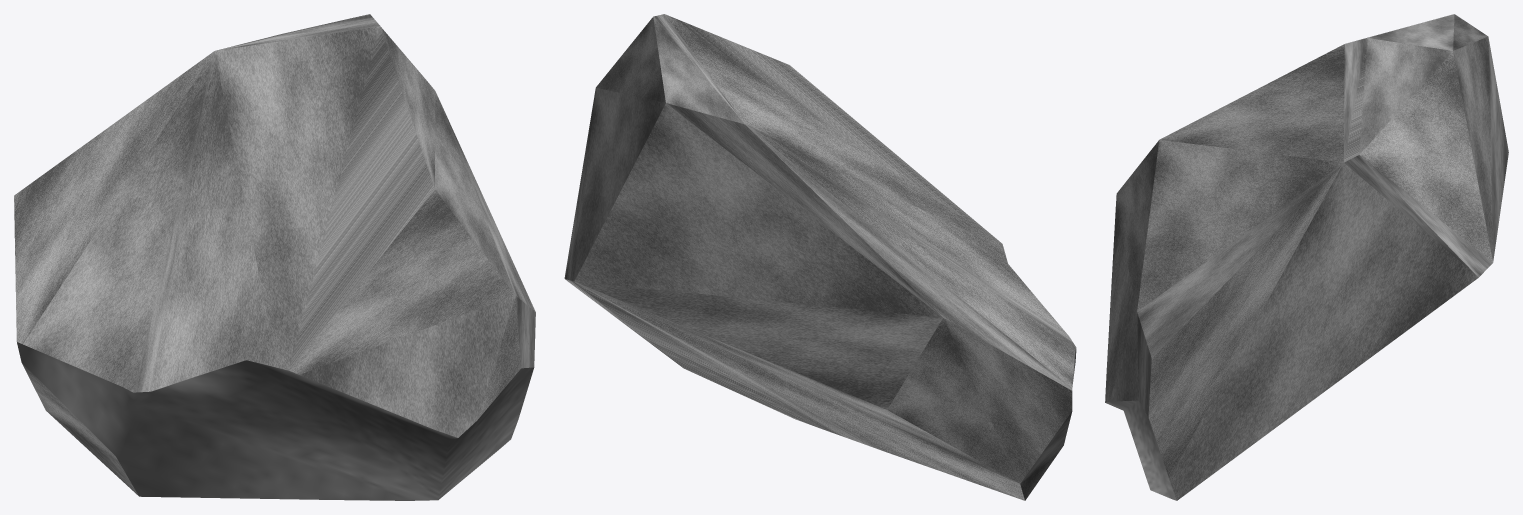
Rendered from body_cell_001.fbx.
The picture shows the model from 3 angles, left to right: view 1: azimuth 30°, elevation 25°; view 2: azimuth 150°, elevation 25°; view 3: azimuth 270°, elevation 25°; orthographic projection. The views are drawn at different scales.
Visible parts, largest first — view 1: body_cell.001; view 2: body_cell.001; view 3: body_cell.001.
Boxes of the visible parts, left/top/right/bottom form: body_cell.001: left=14, top=14, right=535, bottom=500; body_cell.001: left=564, top=14, right=1076, bottom=500; body_cell.001: left=1105, top=14, right=1508, bottom=500.
Bounding box in the file's own units: 43.4 × 39.7 × 31.09.
